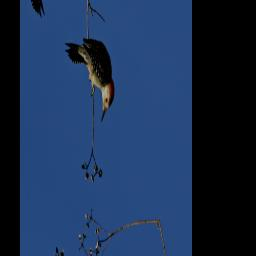Woodpecker: (56, 3, 127, 135)
